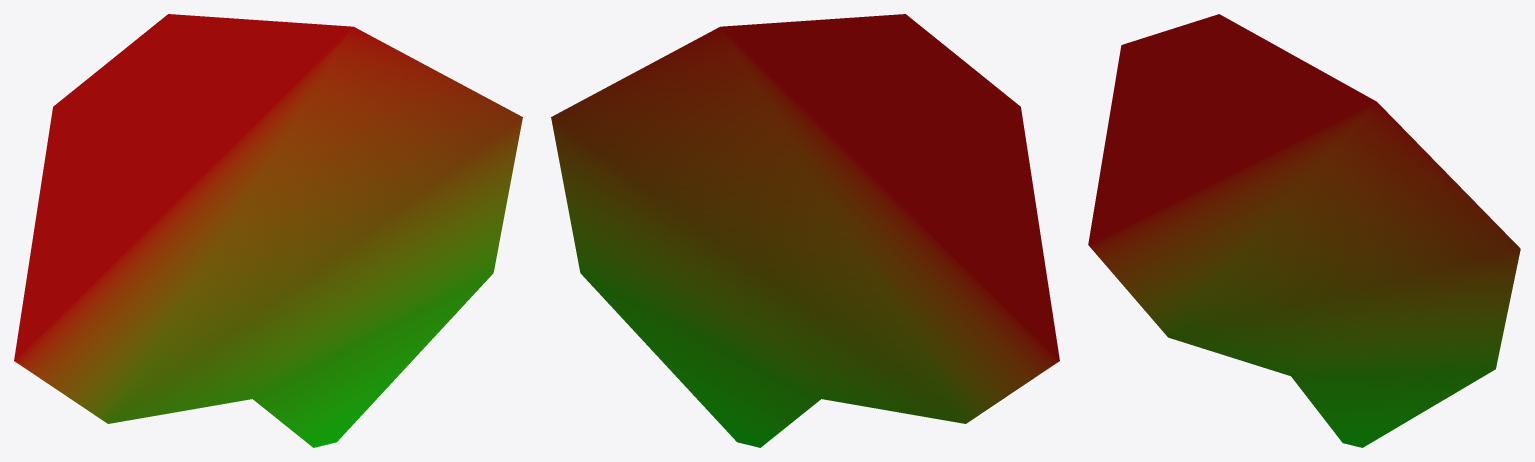
File: Var7_LOD6.fbx
3 views of the same model, side by side, from view 1: azimuth 30°, elevation 25°; view 2: azimuth 150°, elevation 25°; view 3: azimuth 330°, elevation 25° (orthographic). The views are drawn at different scales.
Visible parts, largest first — view 1: _c9xy_Var7_LOD6; view 2: _c9xy_Var7_LOD6; view 3: _c9xy_Var7_LOD6.
Part boxes in pixels (<box>): _c9xy_Var7_LOD6: <box>14,14,522,447</box>; _c9xy_Var7_LOD6: <box>551,14,1059,447</box>; _c9xy_Var7_LOD6: <box>1088,14,1520,447</box>.
Bounding box in the file's own units: 102 × 89.56 × 6.76e-06.
